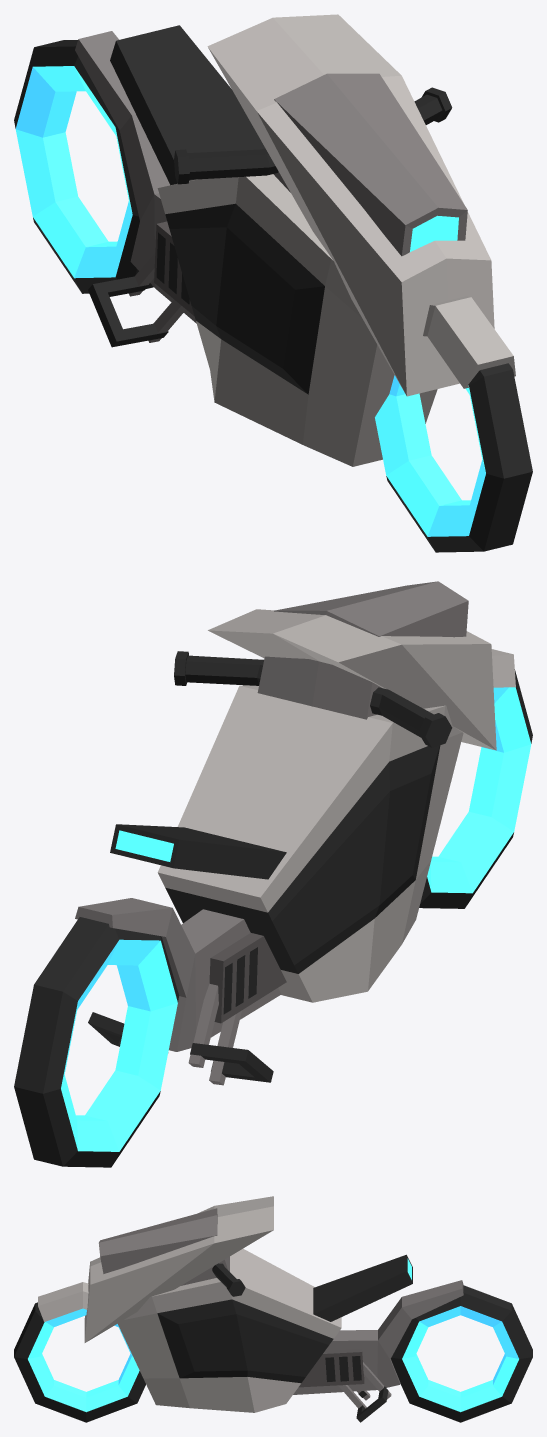
Rendered from scifi-scifi-motorbike.glb.
3 renders of one model, top to bottom at view 1: azimuth 30°, elevation 25°; view 2: azimuth 150°, elevation 25°; view 3: azimuth 270°, elevation 25°, orthographic. The views are drawn at different scales.
Parts seen in each view (by area): view 1: scifi-motorbike-base, scifi-motorbike-wheel-F, scifi-motorbike-wheel-B; view 2: scifi-motorbike-base, scifi-motorbike-wheel-B, scifi-motorbike-wheel-F; view 3: scifi-motorbike-base, scifi-motorbike-wheel-B, scifi-motorbike-wheel-F.
Boxes of the visible parts, x1,y1,x2,y2 form: scifi-motorbike-base: [75, 14, 515, 466]; scifi-motorbike-wheel-F: [375, 363, 532, 552]; scifi-motorbike-wheel-B: [14, 40, 153, 293]; scifi-motorbike-base: [75, 581, 515, 1085]; scifi-motorbike-wheel-B: [14, 917, 179, 1167]; scifi-motorbike-wheel-F: [419, 669, 532, 908]; scifi-motorbike-base: [38, 1196, 463, 1422]; scifi-motorbike-wheel-B: [391, 1285, 532, 1422]; scifi-motorbike-wheel-F: [14, 1302, 145, 1422].
Bounding box in the file's own units: 0.8246 × 1.16 × 2.56.
